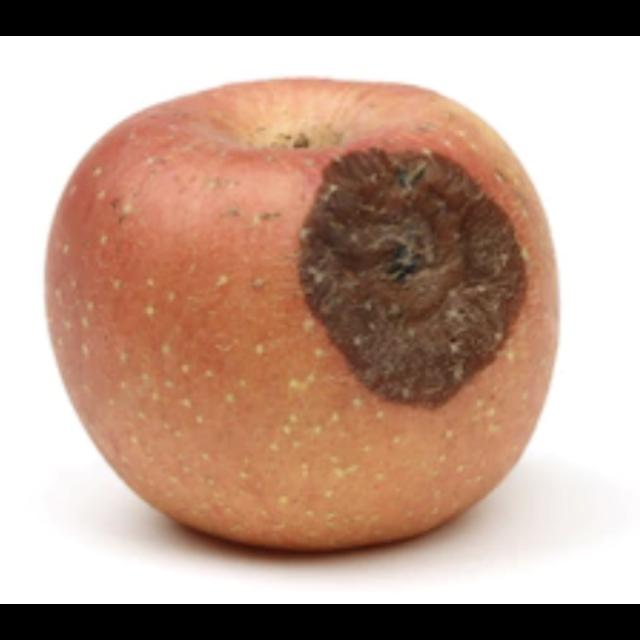Apel Tidak Segar: (32, 66, 570, 560)
